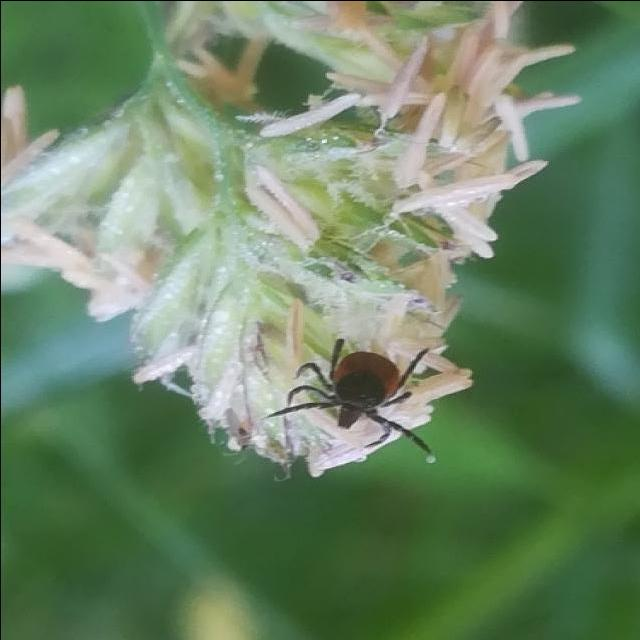Ixodes Ricinus-F: (266, 348, 427, 435)
